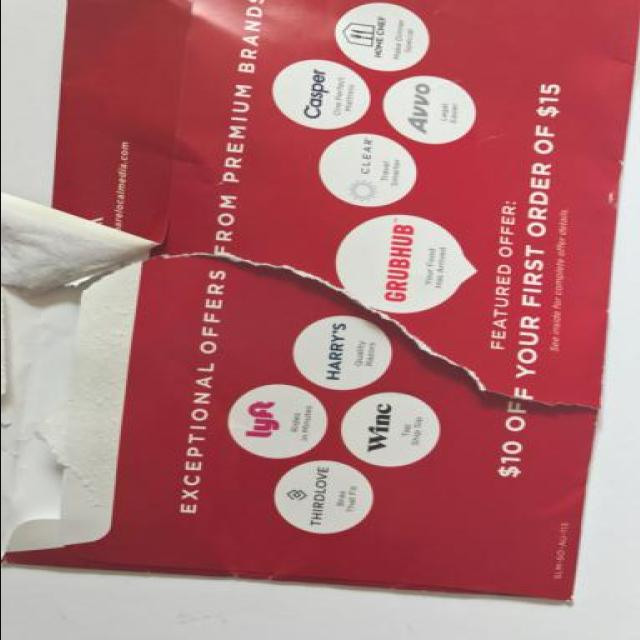paper: (1, 0, 636, 580)
